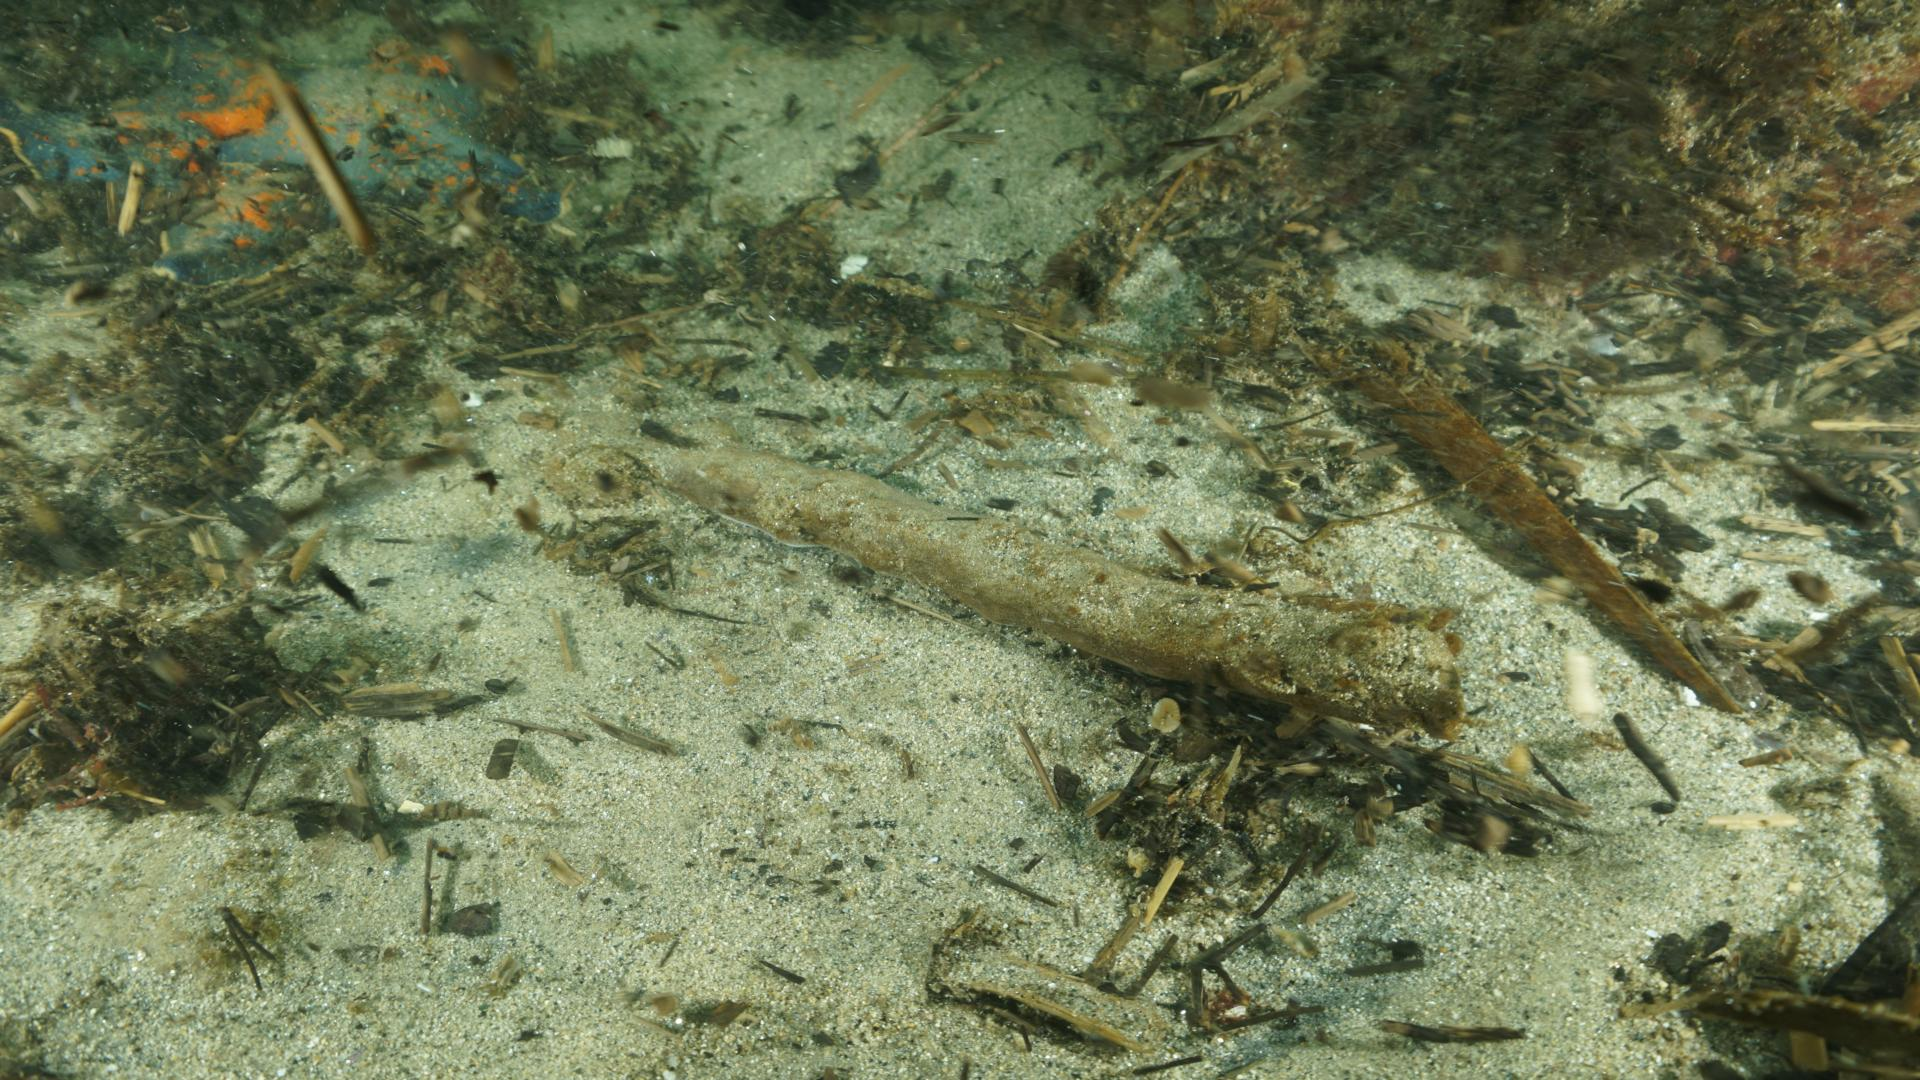wood: (678, 442, 1462, 727), (1393, 397, 1741, 713)
